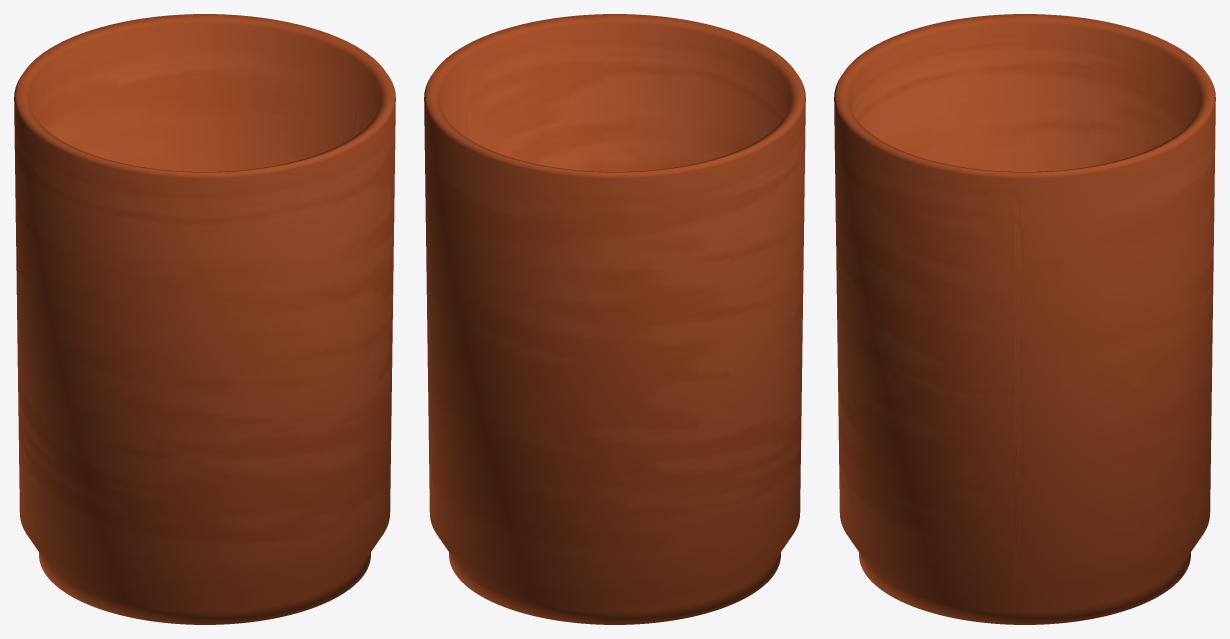
Rendered from dishware__hammered_copper_cup.glb.
3 renders of one model, left to right at view 1: azimuth 30°, elevation 25°; view 2: azimuth 150°, elevation 25°; view 3: azimuth 270°, elevation 25°, orthographic.
Parts seen in each view (by area): view 1: body; view 2: body; view 3: body.
Boxes of the visible parts, x1=… form: body: x1=14, y1=14, x2=395, y2=624; body: x1=424, y1=14, x2=805, y2=624; body: x1=834, y1=14, x2=1215, y2=624.
Size of the model in its own units: 0.081 by 0.108 by 0.081.
1 material, 1 textured.
